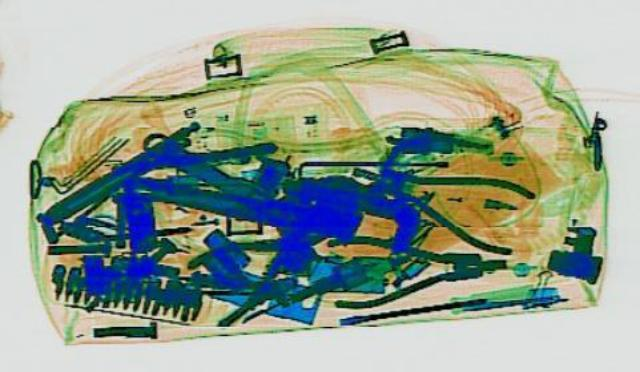Pliers: (314, 140, 566, 254), (139, 207, 345, 326), (320, 227, 512, 306)
Wrench: (123, 117, 354, 247)
